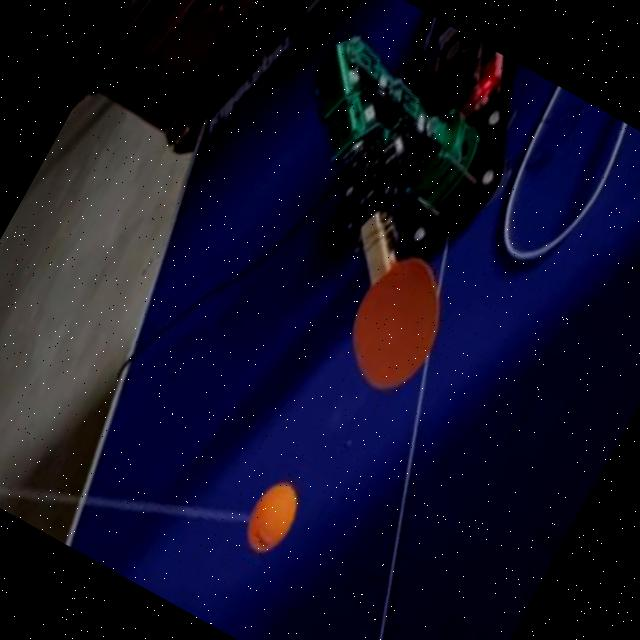ping-pong-ball: (227, 474, 307, 568)
